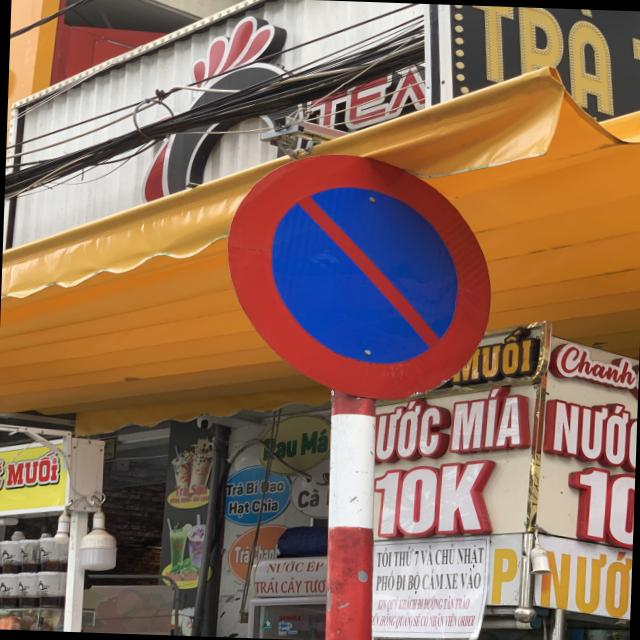Cam_Dau_Xe: (218, 148, 496, 400)
